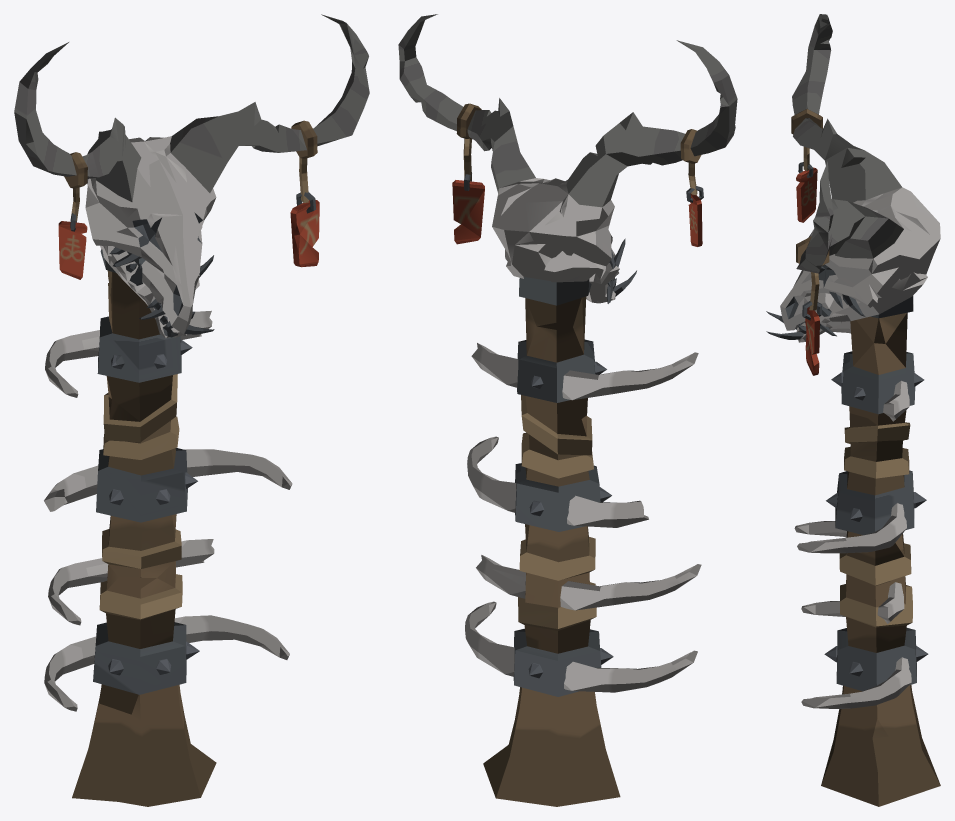
Rendered from crypt_ward.gltf.
3 views of the same model, side by side, from view 1: azimuth 30°, elevation 25°; view 2: azimuth 150°, elevation 25°; view 3: azimuth 270°, elevation 25° (orthographic). The views are drawn at different scales.
Parts seen in each view (by area): view 1: crypt_ward; view 2: crypt_ward; view 3: crypt_ward.
Boxes of the visible parts, left/top/right/bottom form: crypt_ward: left=14, top=14, right=369, bottom=806; crypt_ward: left=398, top=14, right=737, bottom=806; crypt_ward: left=766, top=14, right=940, bottom=806.
Size of the model in its own units: 1.48 by 3.19 by 0.7127.
Materials: 1 (1 with a texture image).
